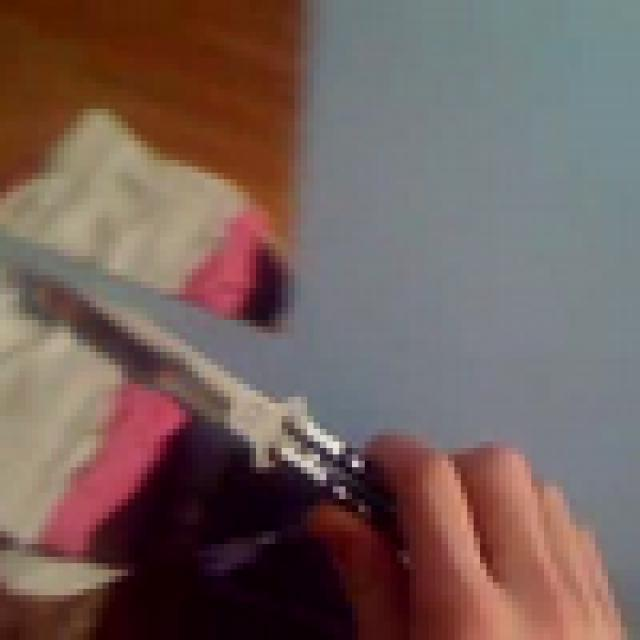knife: (0, 192, 454, 595)
